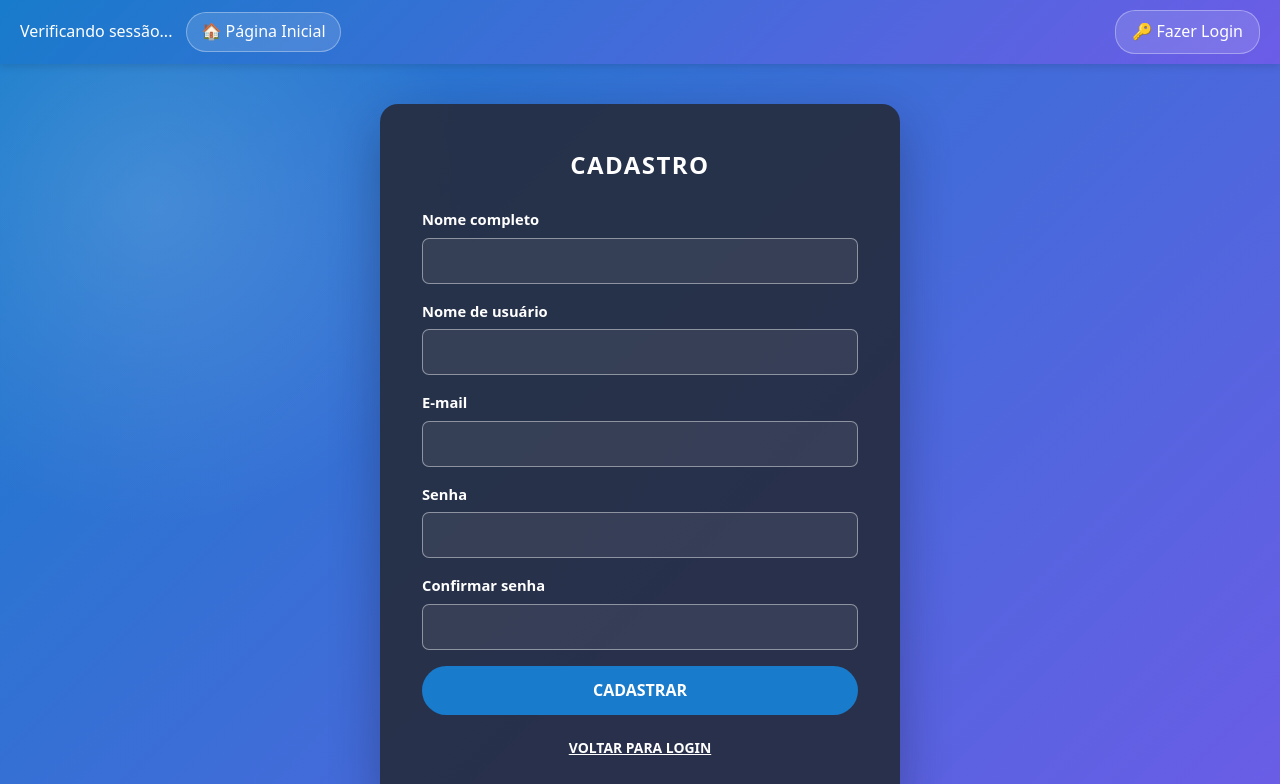
Scenario: authentication screens › shows duplicate username or email errors returned by the server
The image size is (1280, 784).
Step 1. Type "Nome de Teste" into the field labelled "Nome completo" → [640, 260], box [422,238,858,284]
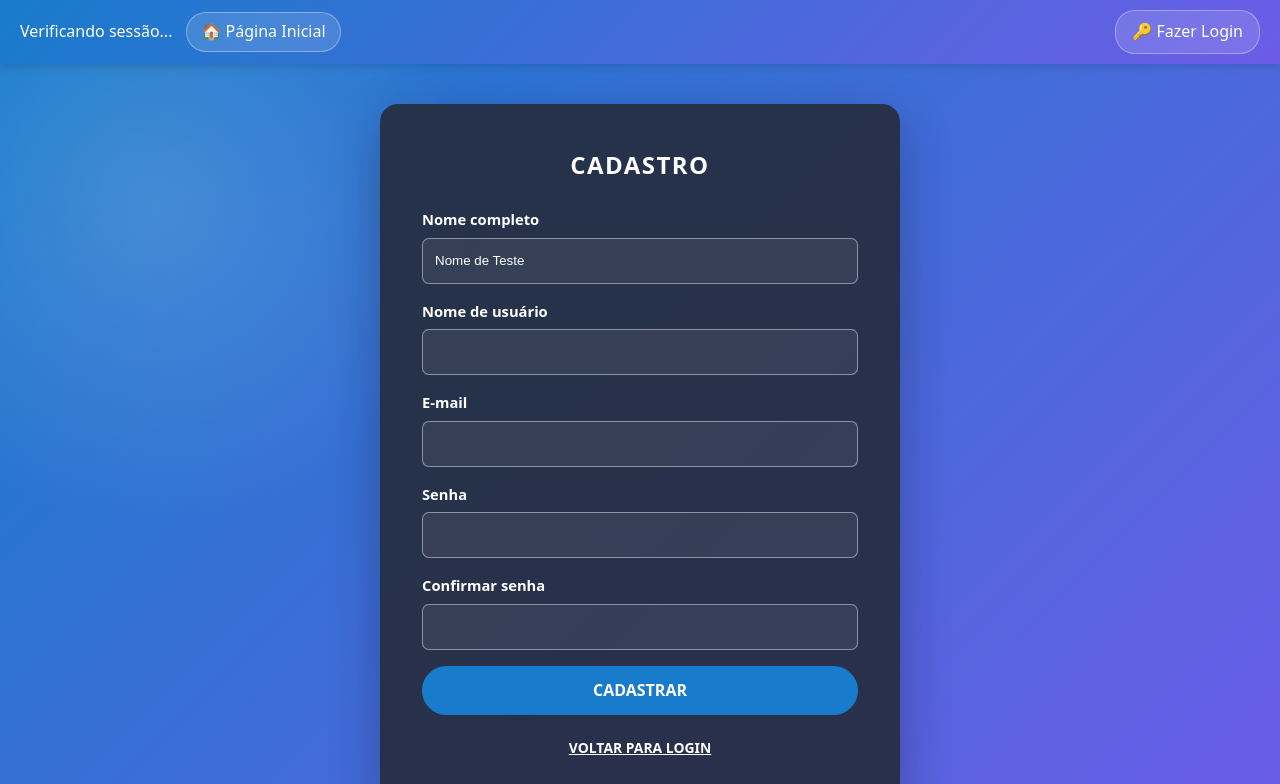
Step 2. Type "aluno" into the field labelled "Nome de usuário" → [640, 352], box [422,329,858,375]
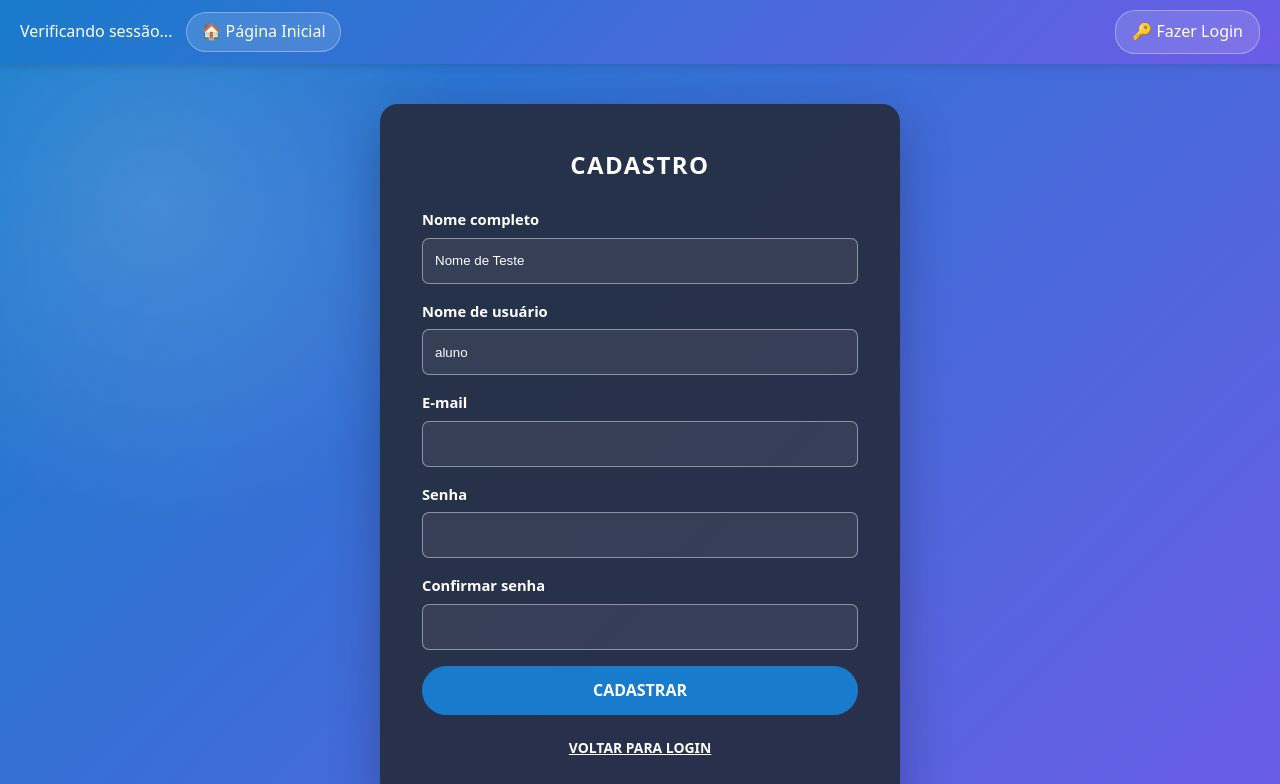
Step 3. Type "aluno@example.com" into the field labelled "E-mail" → [640, 444], box [422,421,858,467]
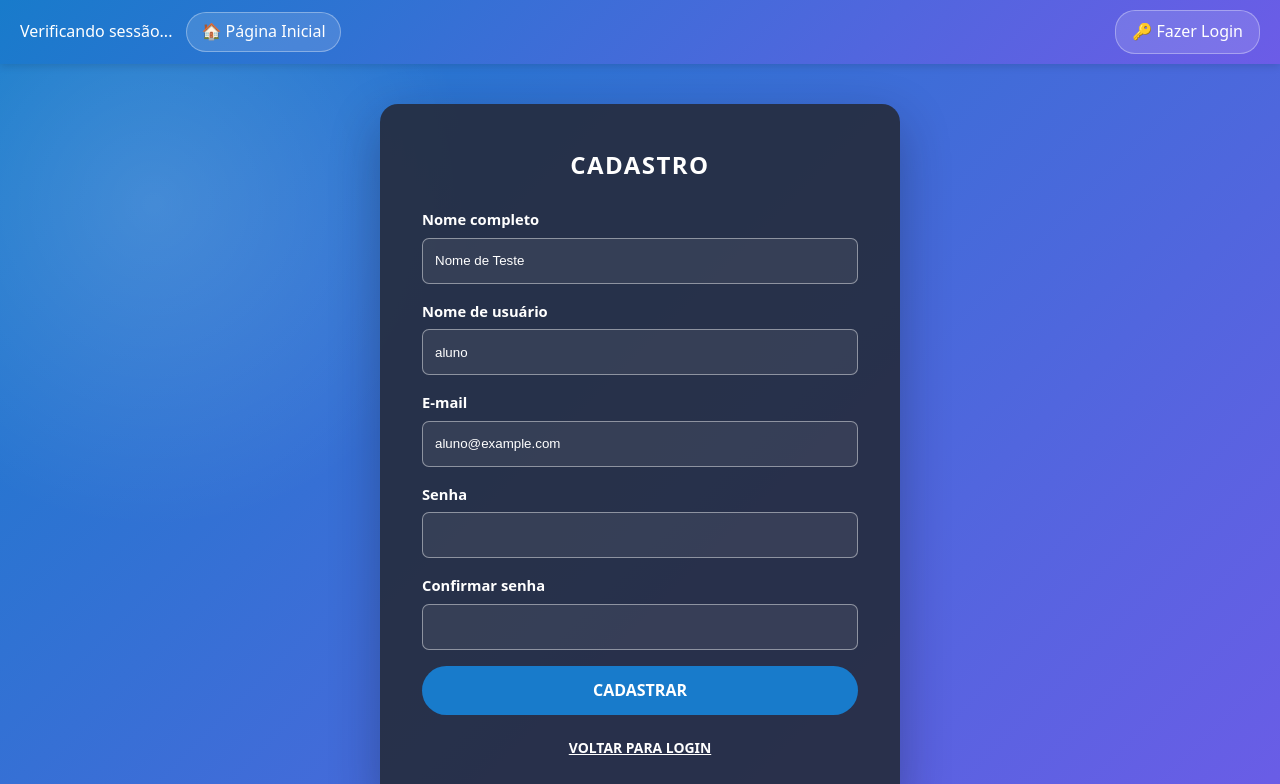
Step 4. Type "senha123" into the password field labelled "Senha" → [640, 535], box [422,512,858,558]
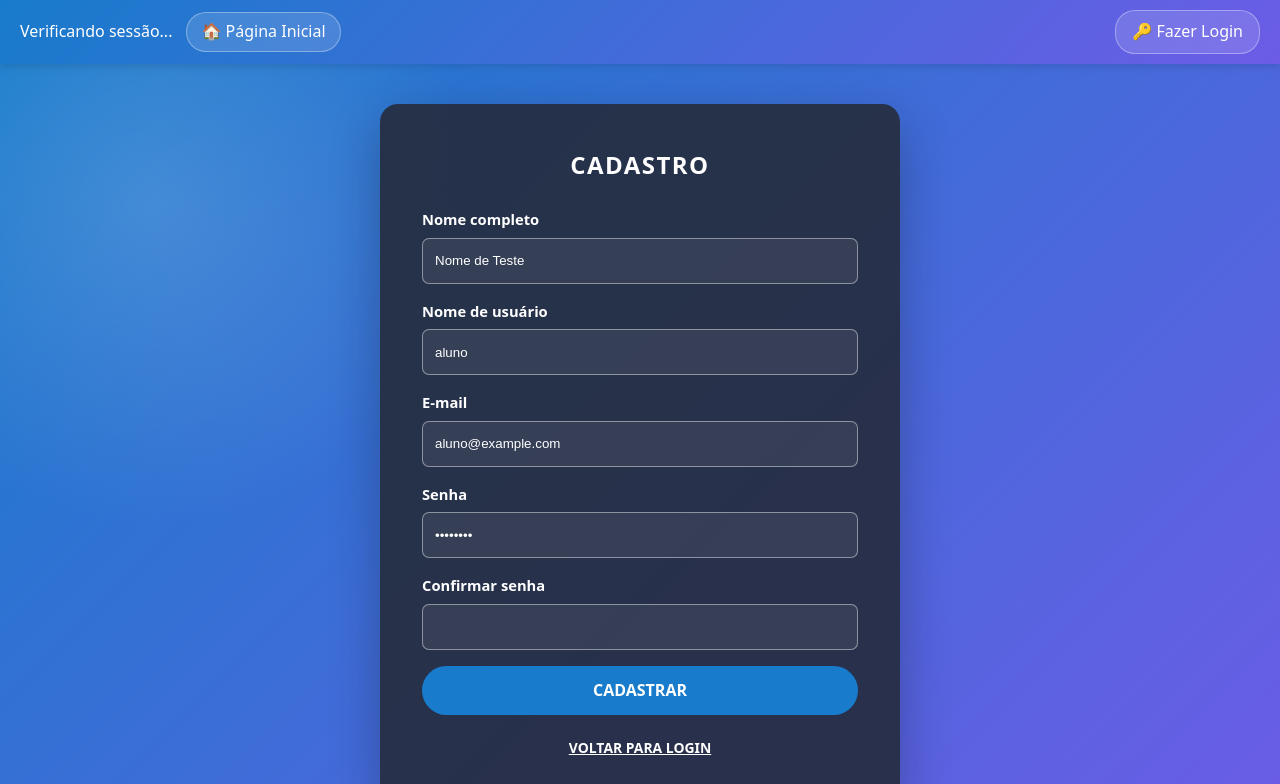
Step 5. Type "senha123" into the password field labelled "Confirmar senha" → [640, 627], box [422,604,858,650]
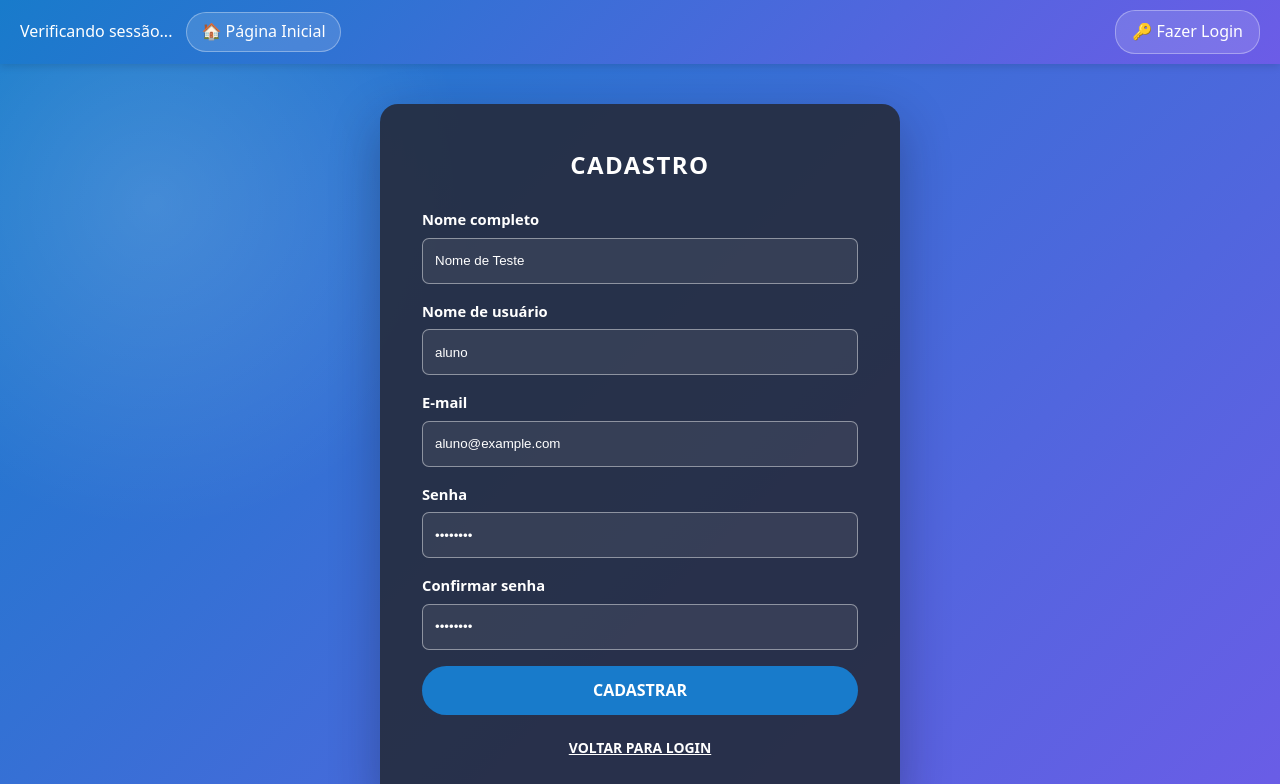
Step 6. Click the button "CADASTRAR" → [640, 690], box [422,666,858,715]
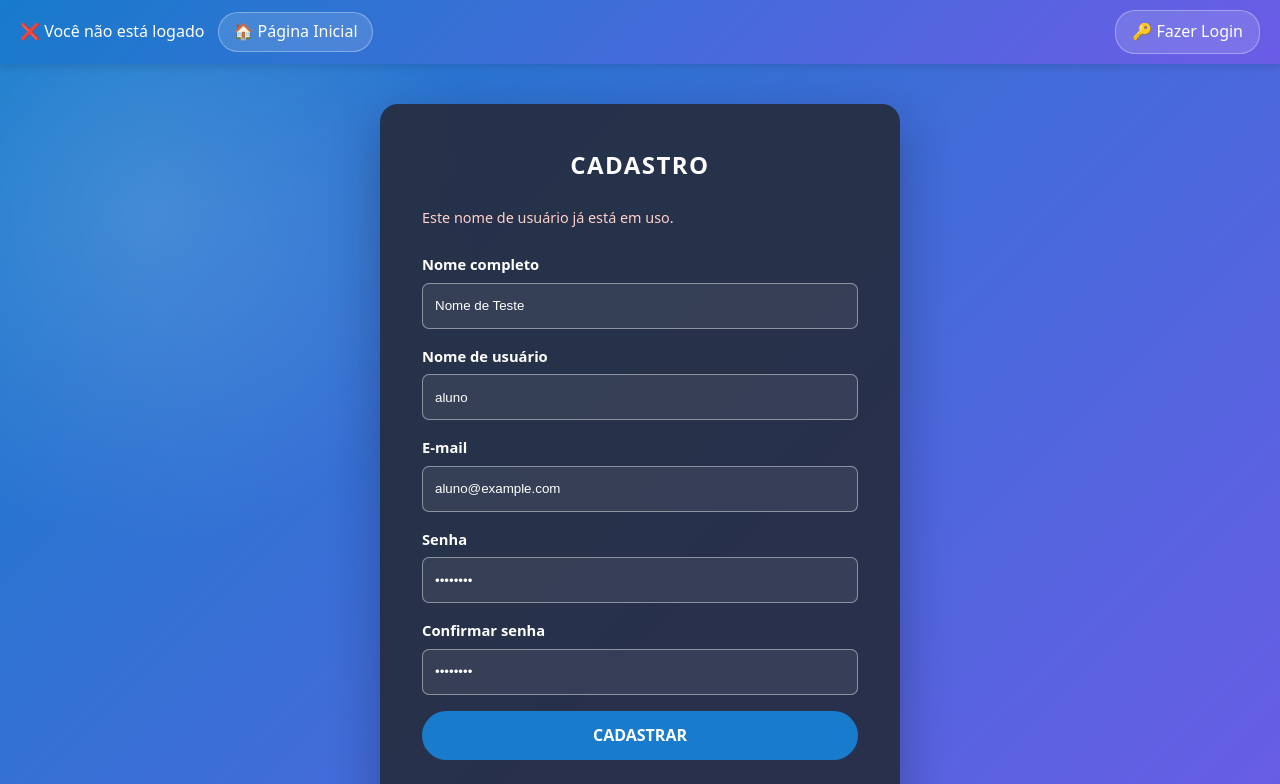
Expected: the text "Este nome de usuário já está em uso." is shown, [422,208,674,227]
